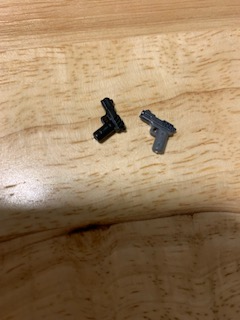pistol: (135, 104, 179, 159), (85, 93, 130, 145)
